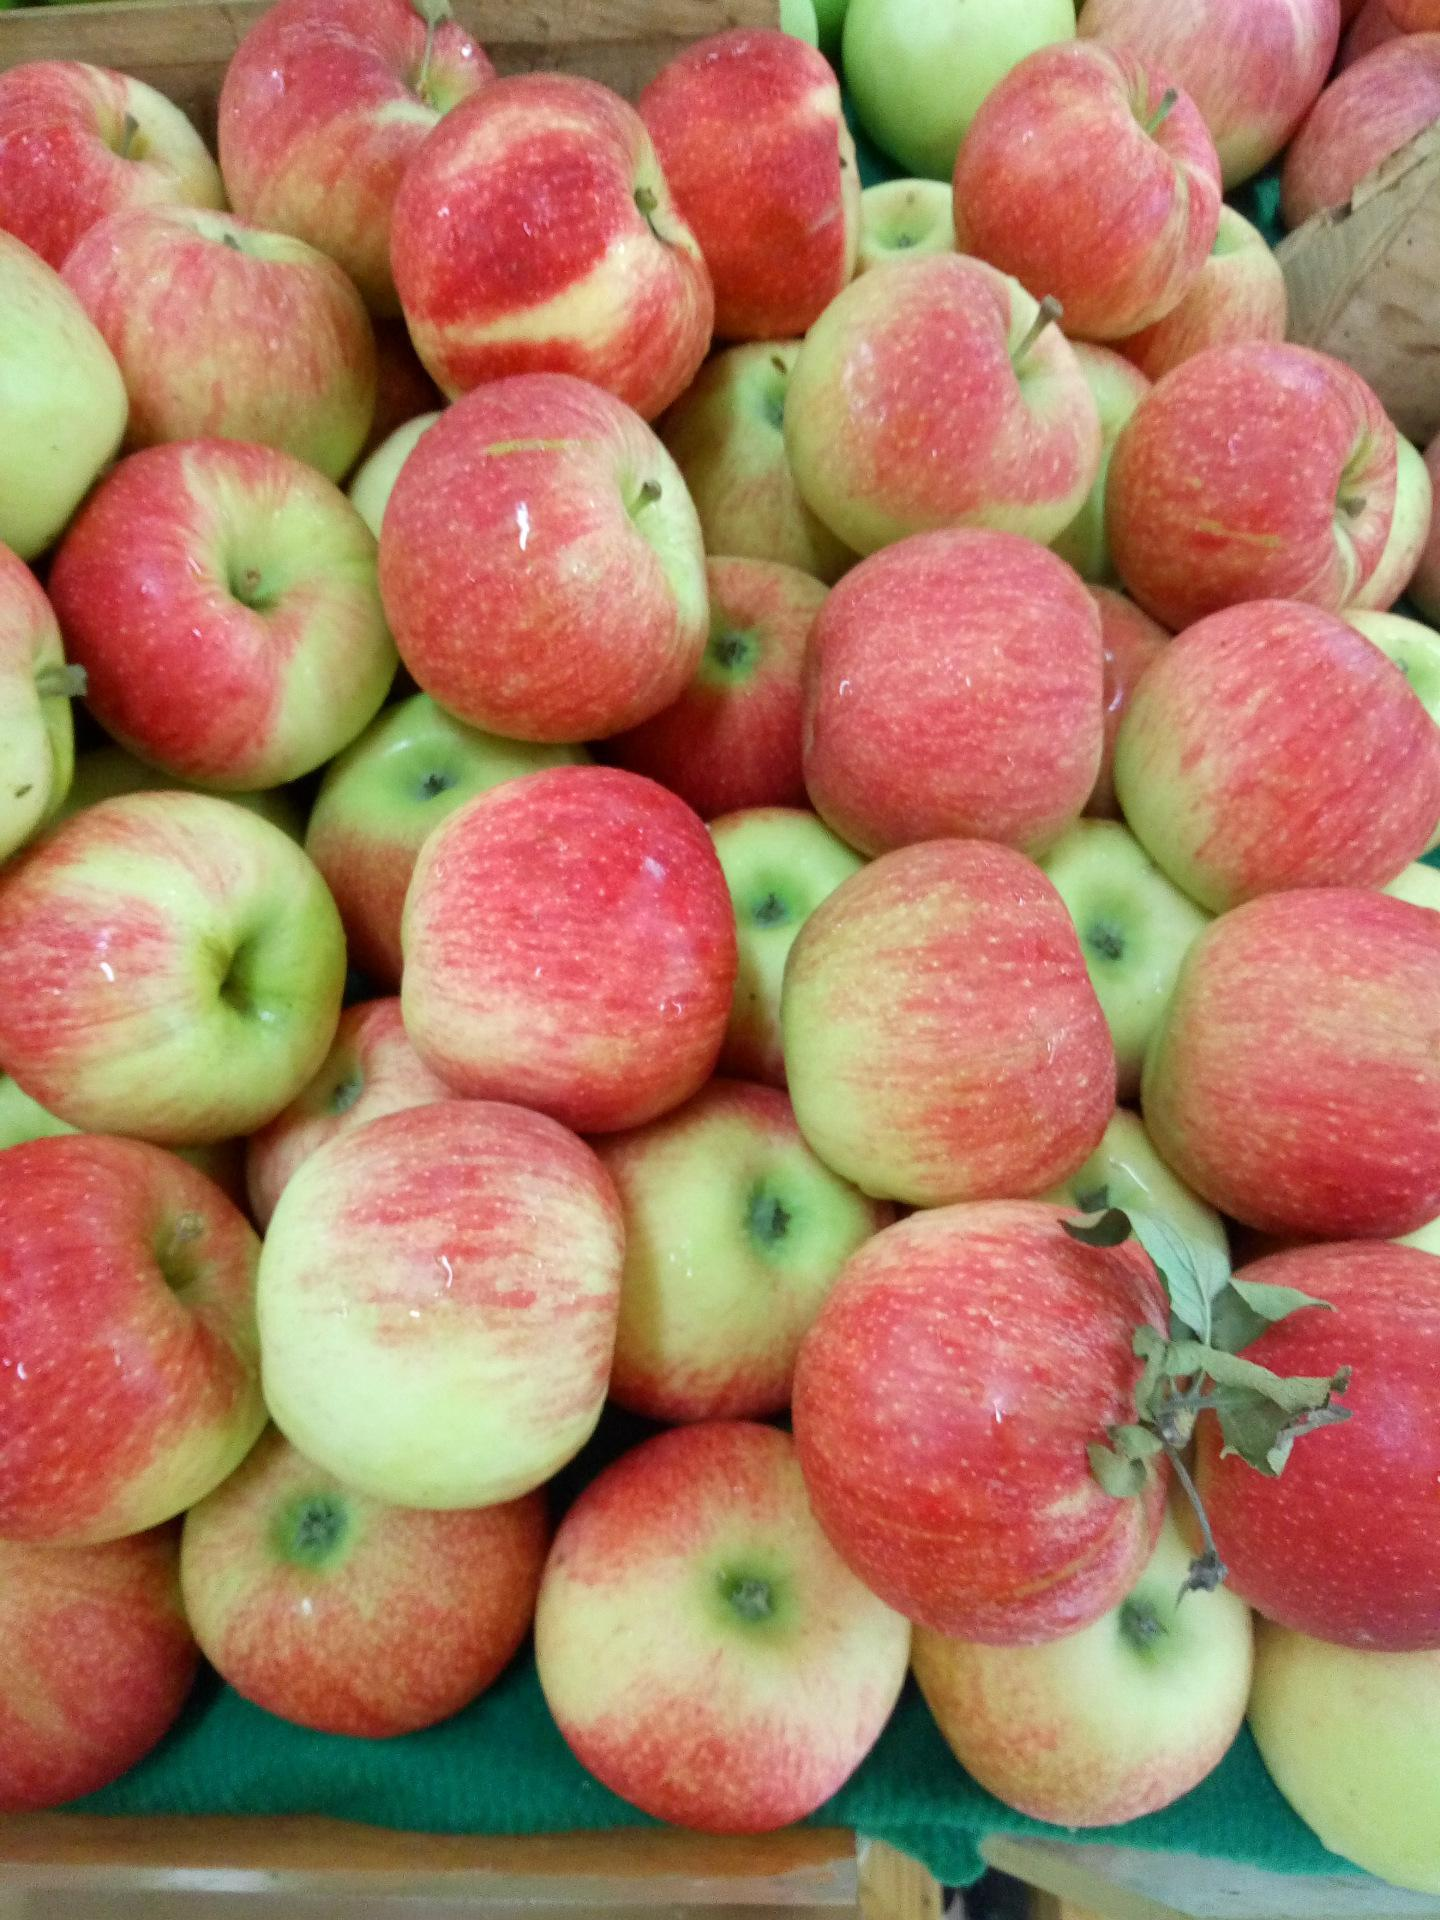apple: (799, 1199, 1183, 1637), (254, 1092, 632, 1516), (535, 1412, 914, 1837), (393, 760, 749, 1146), (771, 835, 1118, 1212), (377, 370, 712, 757), (2, 785, 349, 1147), (48, 434, 402, 789), (380, 70, 711, 426), (2, 1126, 265, 1544), (1142, 890, 1438, 1259), (178, 1445, 554, 1736), (1175, 1240, 1432, 1663), (781, 246, 1109, 571), (1106, 597, 1438, 912), (900, 1531, 1252, 1826), (1101, 342, 1429, 633), (938, 39, 1228, 352), (71, 215, 383, 485), (212, 2, 495, 293), (632, 27, 856, 346), (1243, 1622, 1438, 1897), (833, 2, 1077, 183), (703, 809, 864, 1081), (2, 225, 129, 562)
